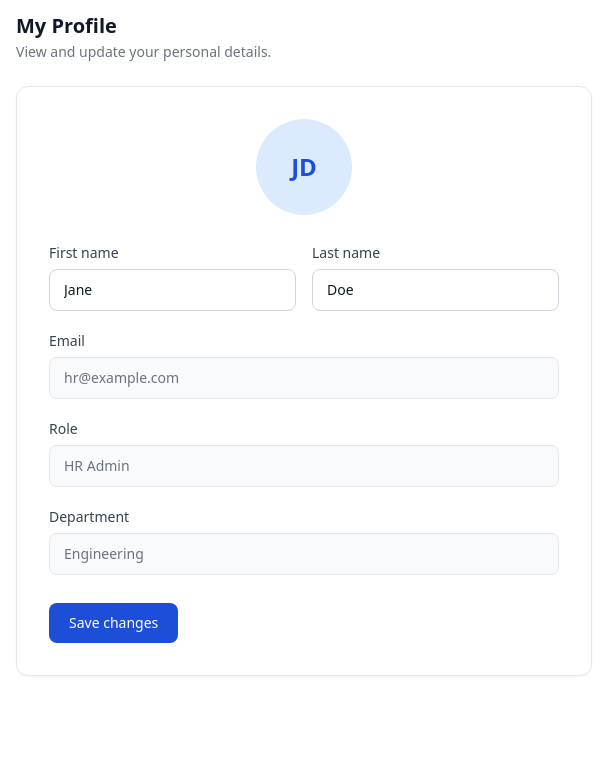
it: ProfilePage › updates name successfully
This screenshot has width=609, height=759.
Replace the text in the field showing "Jane" below "First name" with "Janet" at (172, 290), box x1=49 y1=269 x2=296 y2=311
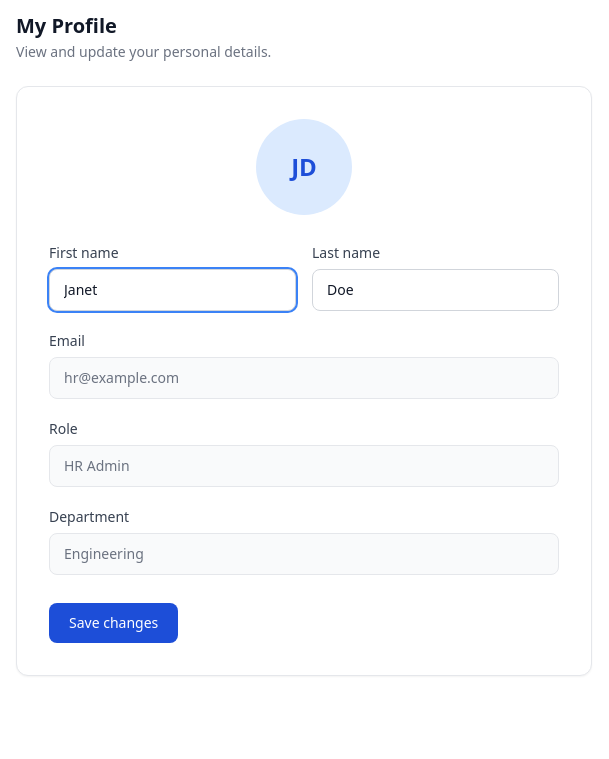
Click the button "Save changes" at (114, 623), box x1=49 y1=603 x2=178 y2=643
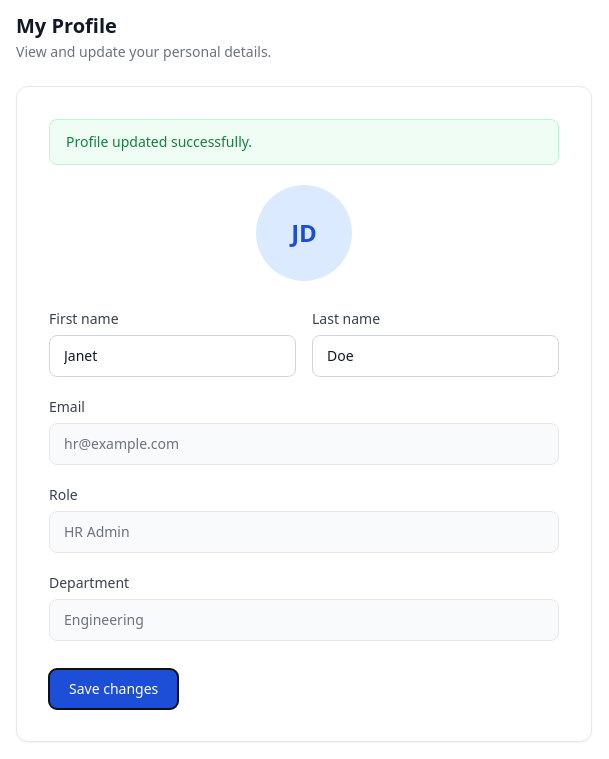
Expected: the text "Profile updated successfully." is shown, x1=49 y1=119 x2=559 y2=165
